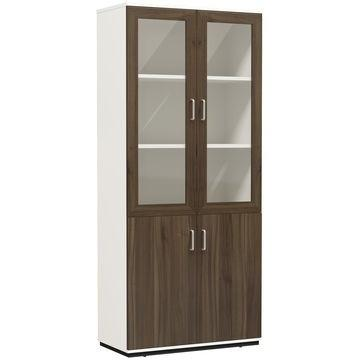cabinet_door: (127, 10, 195, 212), (197, 11, 261, 214), (129, 215, 195, 344), (196, 214, 261, 339)
handle: (188, 227, 198, 254), (200, 227, 209, 255), (191, 98, 197, 123), (200, 97, 206, 122)
